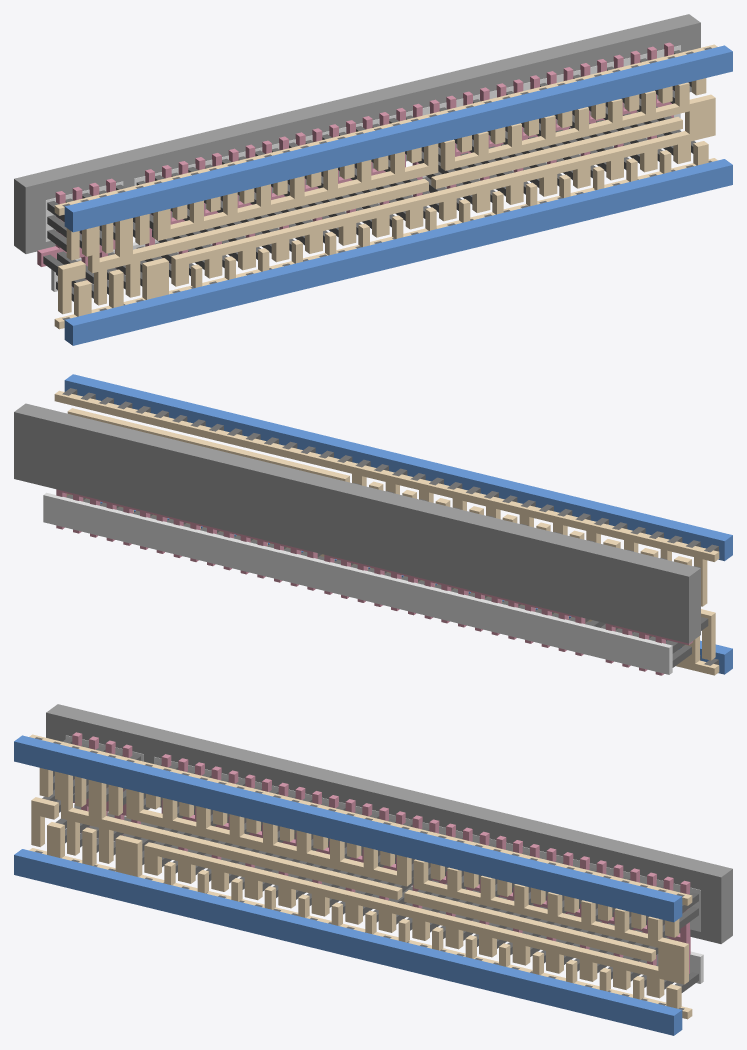
Rendered from sky130_fd_sc_hd__lpflow_isobufsrc_16.gds.gltf.
3 renders of one model, top to bottom at view 1: azimuth 30°, elevation 25°; view 2: azimuth 150°, elevation 25°; view 3: azimuth 330°, elevation 25°, orthographic.
Visible parts, largest first — view 1: sky130_fd_sc_hd__lpflow_isobufsrc_16_li1, sky130_fd_sc_hd__lpflow_isobufsrc_16_met1, sky130_fd_sc_hd__lpflow_isobufsrc_16_nwell, sky130_fd_sc_hd__lpflow_isobufsrc_16_licon, sky130_fd_sc_hd__lpflow_isobufsrc_16_poly, sky130_fd_sc_hd__lpflow_isobufsrc_16_diff, sky130_fd_sc_hd__lpflow_isobufsrc_16_mcon; view 2: sky130_fd_sc_hd__lpflow_isobufsrc_16_nwell, sky130_fd_sc_hd__lpflow_isobufsrc_16_diff, sky130_fd_sc_hd__lpflow_isobufsrc_16_li1, sky130_fd_sc_hd__lpflow_isobufsrc_16_met1, sky130_fd_sc_hd__lpflow_isobufsrc_16_poly, sky130_fd_sc_hd__lpflow_isobufsrc_16_mcon, sky130_fd_sc_hd__lpflow_isobufsrc_16_licon; view 3: sky130_fd_sc_hd__lpflow_isobufsrc_16_li1, sky130_fd_sc_hd__lpflow_isobufsrc_16_met1, sky130_fd_sc_hd__lpflow_isobufsrc_16_nwell, sky130_fd_sc_hd__lpflow_isobufsrc_16_licon, sky130_fd_sc_hd__lpflow_isobufsrc_16_poly, sky130_fd_sc_hd__lpflow_isobufsrc_16_diff, sky130_fd_sc_hd__lpflow_isobufsrc_16_mcon.
Boxes of the visible parts, x1,y1,x2,y2 form: sky130_fd_sc_hd__lpflow_isobufsrc_16_li1: (54,44,717,329); sky130_fd_sc_hd__lpflow_isobufsrc_16_met1: (64,45,732,345); sky130_fd_sc_hd__lpflow_isobufsrc_16_nwell: (14,14,700,253); sky130_fd_sc_hd__lpflow_isobufsrc_16_licon: (43,50,695,301); sky130_fd_sc_hd__lpflow_isobufsrc_16_poly: (37,42,673,287); sky130_fd_sc_hd__lpflow_isobufsrc_16_diff: (45,45,680,291); sky130_fd_sc_hd__lpflow_isobufsrc_16_mcon: (62,47,711,320); sky130_fd_sc_hd__lpflow_isobufsrc_16_nwell: (14,403,700,643); sky130_fd_sc_hd__lpflow_isobufsrc_16_diff: (43,492,672,674); sky130_fd_sc_hd__lpflow_isobufsrc_16_li1: (54,390,719,675); sky130_fd_sc_hd__lpflow_isobufsrc_16_met1: (64,374,732,674); sky130_fd_sc_hd__lpflow_isobufsrc_16_poly: (56,489,692,675); sky130_fd_sc_hd__lpflow_isobufsrc_16_mcon: (62,388,718,665); sky130_fd_sc_hd__lpflow_isobufsrc_16_licon: (66,483,708,667); sky130_fd_sc_hd__lpflow_isobufsrc_16_li1: (29,734,692,1019); sky130_fd_sc_hd__lpflow_isobufsrc_16_met1: (14,735,682,1035); sky130_fd_sc_hd__lpflow_isobufsrc_16_nwell: (46,704,732,943); sky130_fd_sc_hd__lpflow_isobufsrc_16_licon: (42,738,698,992); sky130_fd_sc_hd__lpflow_isobufsrc_16_poly: (72,732,690,973); sky130_fd_sc_hd__lpflow_isobufsrc_16_diff: (65,735,703,983); sky130_fd_sc_hd__lpflow_isobufsrc_16_mcon: (35,737,684,1010).
Size of the model in its own units: 16.94 by 3.2 by 2.24.
